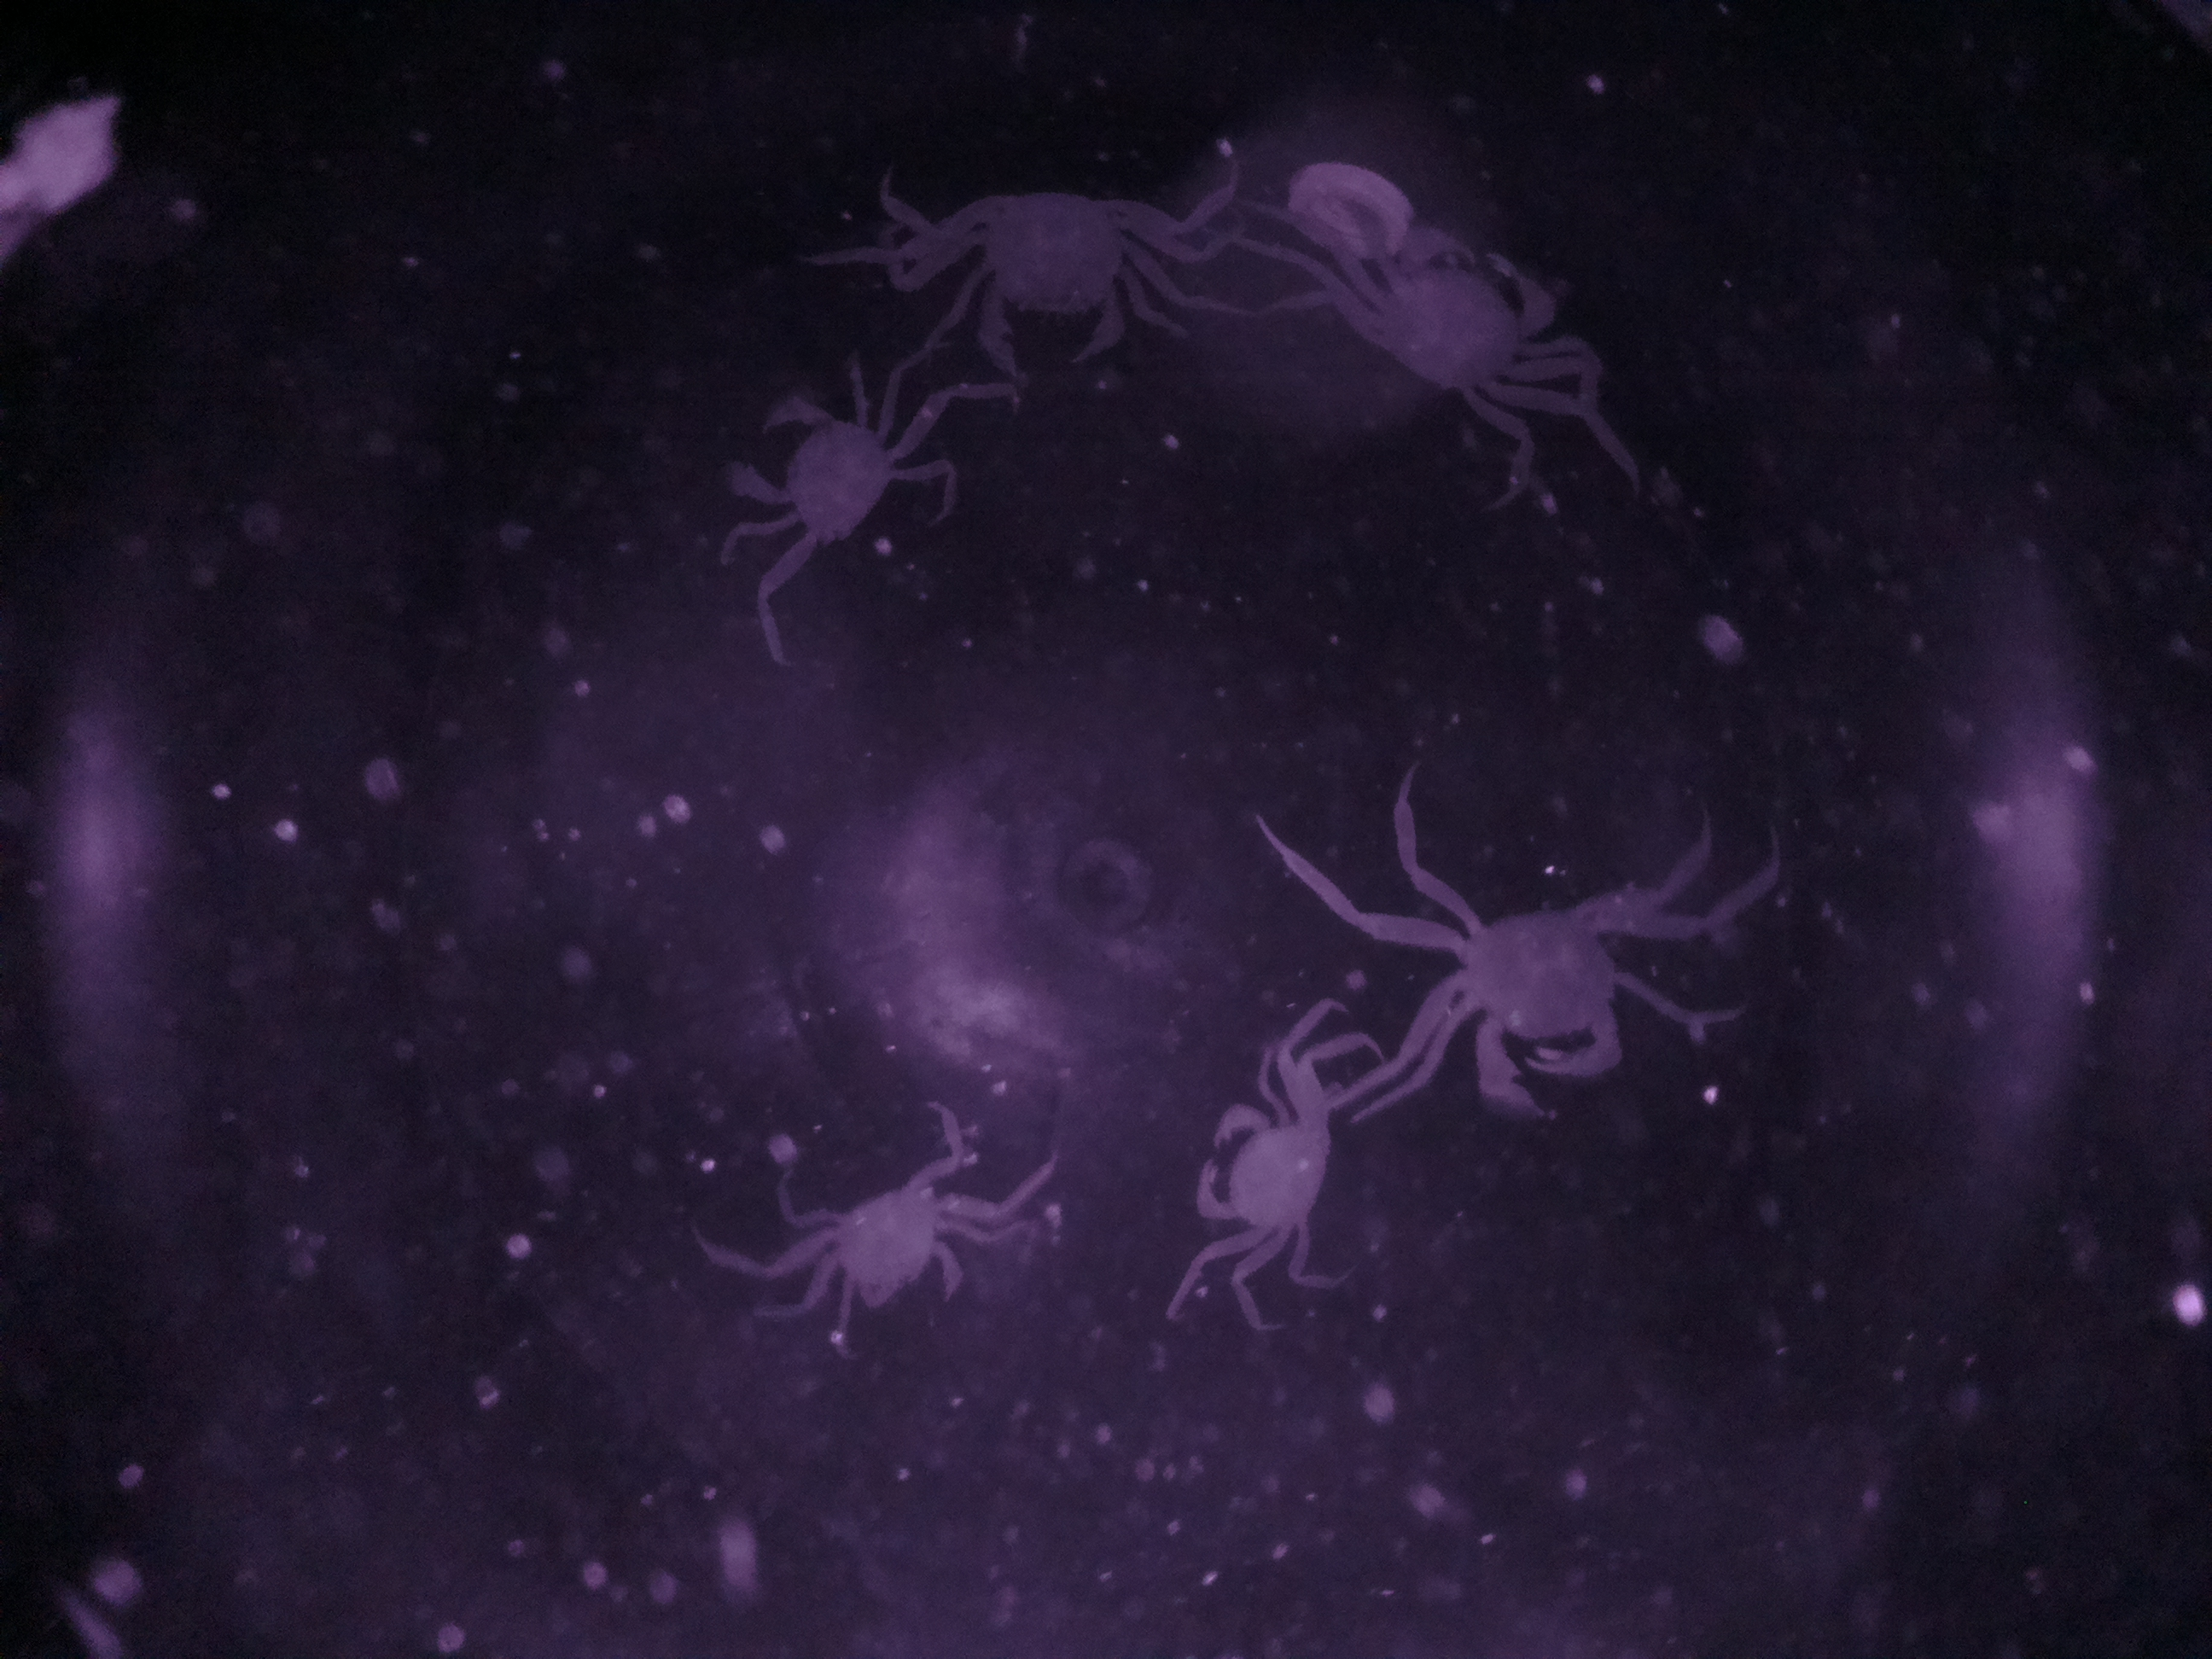Crab: (1362, 863, 1721, 1126), (920, 166, 1223, 390), (1308, 206, 1585, 450), (693, 362, 928, 608), (1172, 1009, 1355, 1297), (754, 1143, 1000, 1354)
